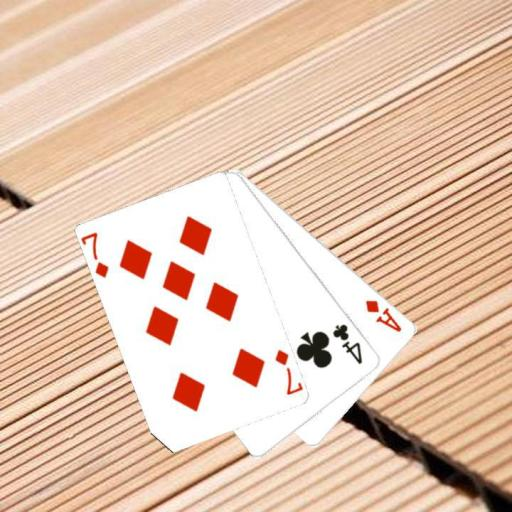4C: (329, 321, 365, 366)
7D: (272, 346, 303, 397), (80, 229, 111, 279)
AD: (363, 297, 404, 334)
